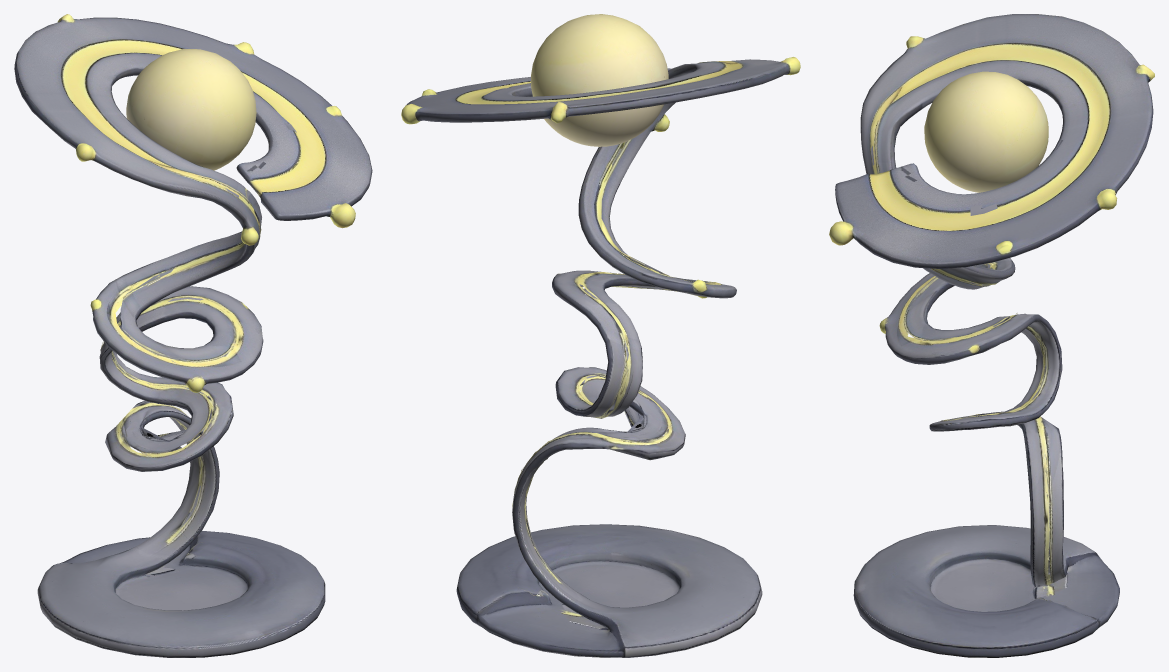
Rendered from level2.glb.
The picture shows the model from 3 angles, left to right: view 1: azimuth 30°, elevation 25°; view 2: azimuth 150°, elevation 25°; view 3: azimuth 270°, elevation 25°; orthographic projection. The views are drawn at different scales.
Parts seen in each view (by area): view 1: tripo_node_b7f408a8-d0ee-4218-b14f-94231ff60b72; view 2: tripo_node_b7f408a8-d0ee-4218-b14f-94231ff60b72; view 3: tripo_node_b7f408a8-d0ee-4218-b14f-94231ff60b72.
Part boxes in pixels (x1,y1,x2,y2): tripo_node_b7f408a8-d0ee-4218-b14f-94231ff60b72: [14, 14, 372, 657]; tripo_node_b7f408a8-d0ee-4218-b14f-94231ff60b72: [401, 14, 800, 657]; tripo_node_b7f408a8-d0ee-4218-b14f-94231ff60b72: [829, 14, 1154, 657].
Size of the model in its own units: 0.5858 by 0.9776 by 0.538.
Materials: 1 (1 with a texture image).
